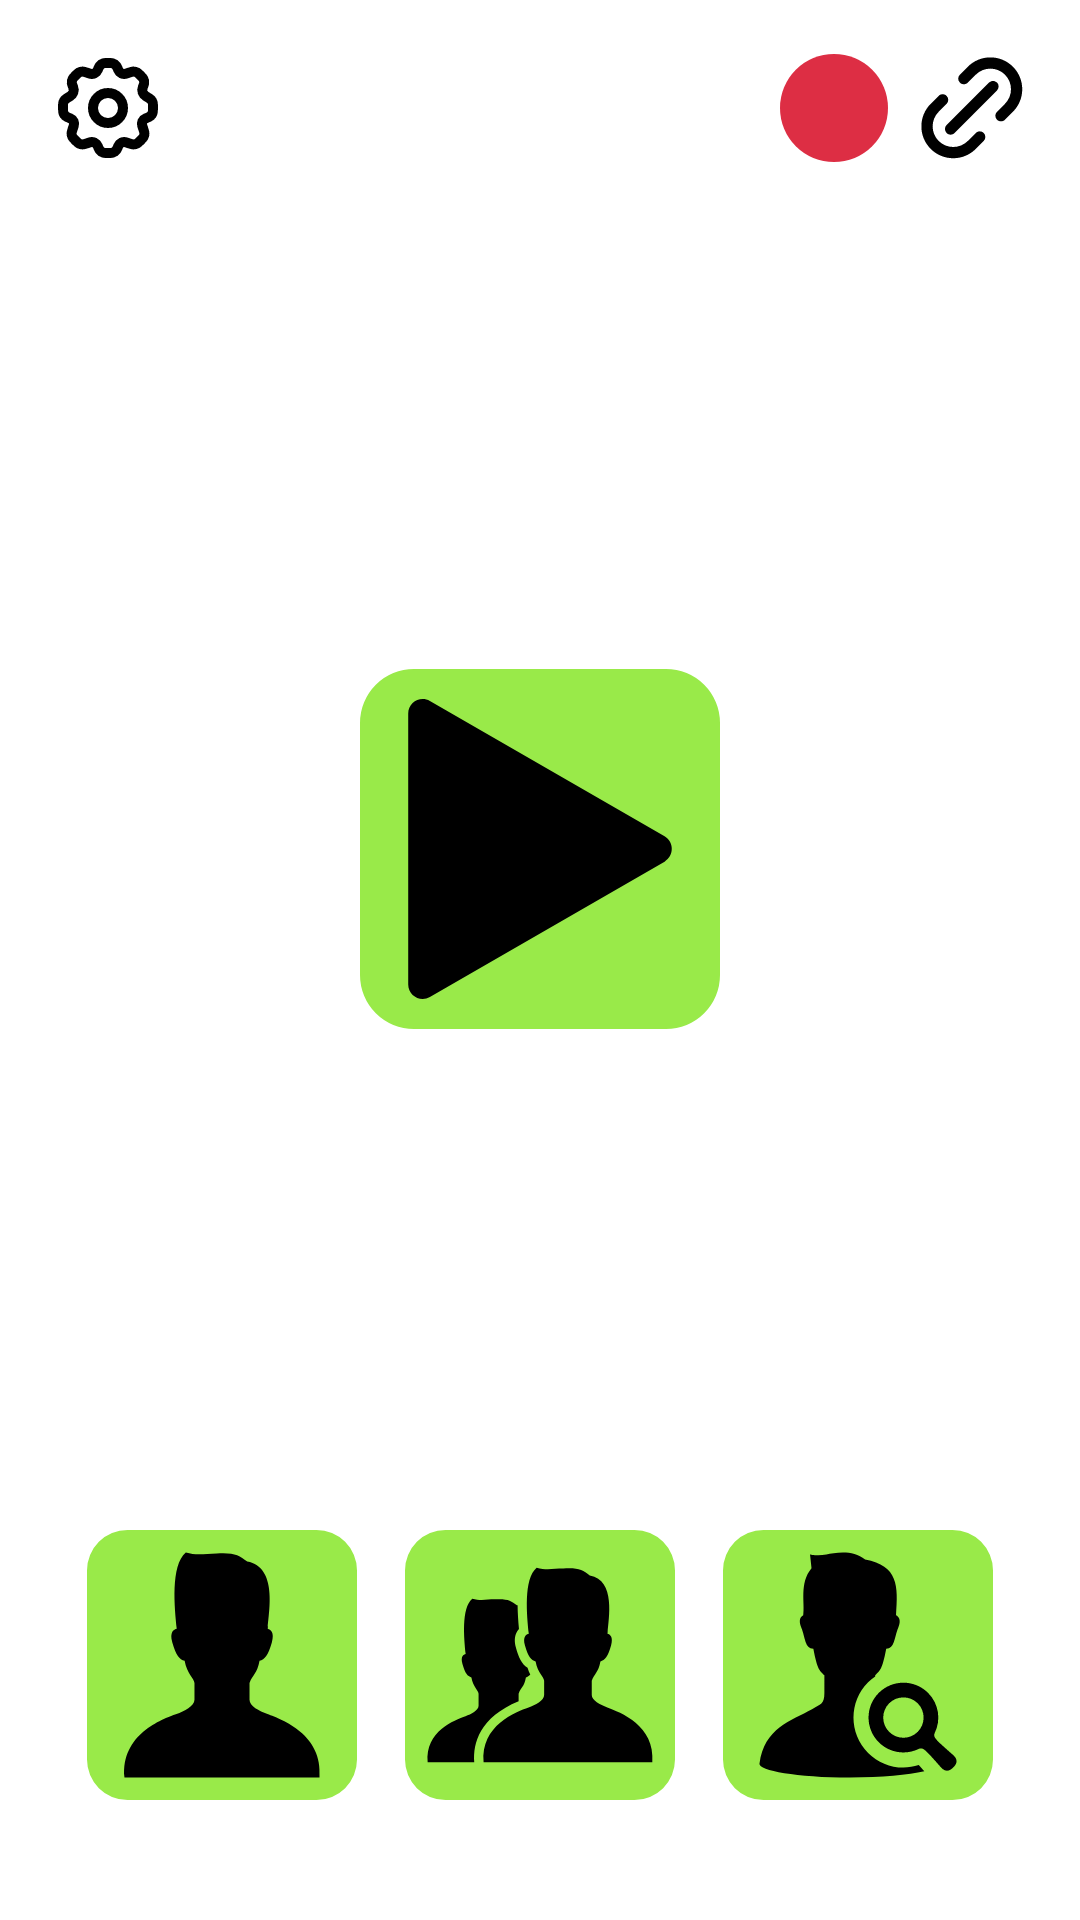

Icons on this 1080px x 1920px Android screen, each with the point to tap as point (x, y):
gear: point (108, 108)
link: point (972, 108)
play: point (540, 849)
